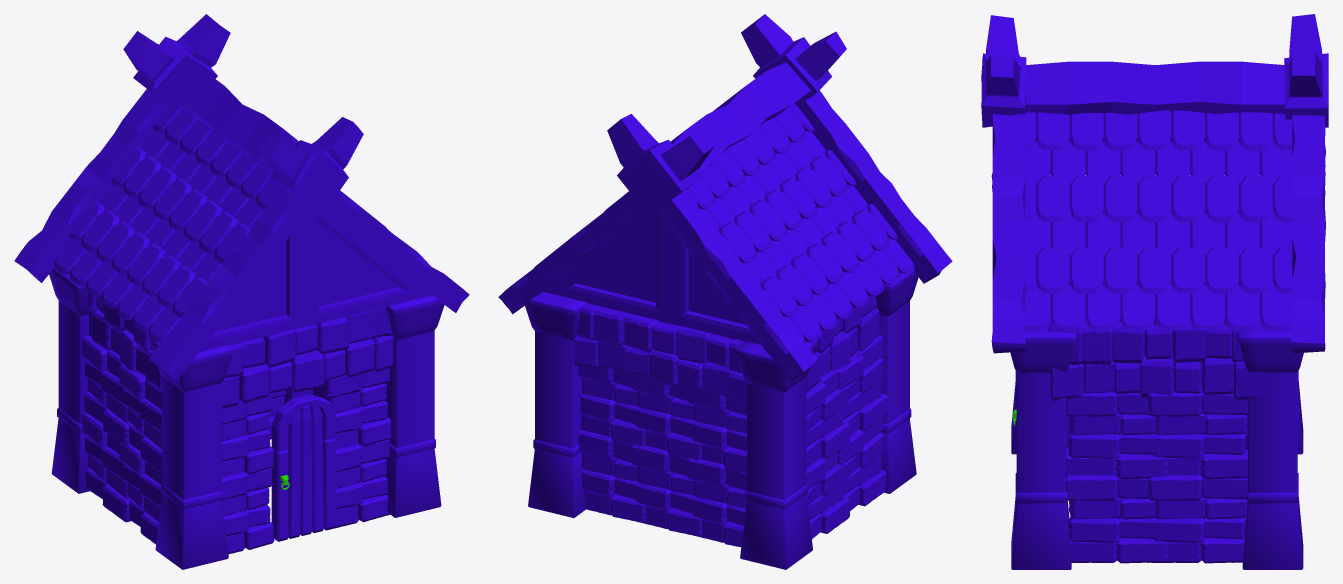
File: Huis_File.fbx
3 renders of one model, left to right at view 1: azimuth 30°, elevation 25°; view 2: azimuth 150°, elevation 25°; view 3: azimuth 270°, elevation 25°, orthographic. The views are drawn at different scales.
Visible parts, largest first — view 1: Cube.004, Cube.020, Cube.002, Cube, Cube.013, Cube.003, Cube.006, Cube.010, Cube.005, Cube.022; view 2: Cube.004, Cube.020, Cube.002, Cube.015, Cube, Cube.013, Cube.021, Cube.022; view 3: Cube.002, Cube.004, Cube.012, Cube.020, Cube.023.
Boxes of the visible parts, x1,y1,x2,y2 form: Cube.004: [14, 14, 469, 381]; Cube.020: [49, 267, 444, 569]; Cube.002: [54, 103, 428, 342]; Cube: [56, 209, 432, 351]; Cube.013: [82, 335, 162, 544]; Cube.003: [222, 307, 393, 408]; Cube.006: [271, 394, 335, 541]; Cube.010: [319, 368, 391, 530]; Cube.005: [222, 393, 274, 554]; Cube.022: [87, 293, 162, 388]; Cube.004: [498, 14, 952, 381]; Cube.020: [525, 270, 918, 569]; Cube.002: [542, 103, 914, 343]; Cube.015: [578, 365, 746, 547]; Cube: [543, 210, 914, 344]; Cube.013: [806, 335, 887, 538]; Cube.021: [566, 303, 746, 406]; Cube.022: [806, 296, 879, 391]; Cube.002: [1025, 110, 1292, 330]; Cube.004: [981, 14, 1328, 353]; Cube.012: [1066, 388, 1248, 563]; Cube.020: [1010, 209, 1303, 569]; Cube.023: [1048, 319, 1266, 400].
Bounding box in the file's own units: 1175 × 1549 × 1035.
